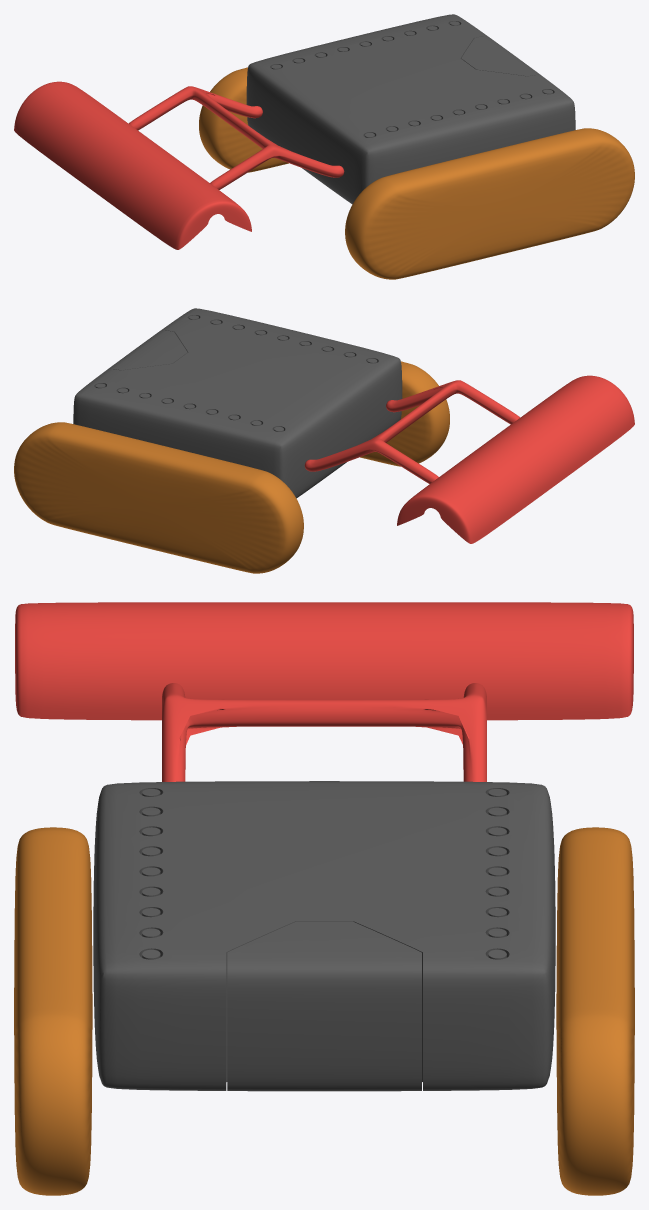
Rendered from Robot.glb.
3 views of the same model, one above another, from view 1: azimuth 30°, elevation 25°; view 2: azimuth 150°, elevation 25°; view 3: azimuth 270°, elevation 25° (orthographic). The views are drawn at different scales.
Visible parts, largest first — view 1: Robot.vehicle-vehicle, Robot.Shovel; view 2: Robot.vehicle-vehicle, Robot.Shovel; view 3: Robot.vehicle-vehicle, Robot.Shovel.
Part boxes in pixels (x1,y1,x2,y2): Robot.vehicle-vehicle: (199, 14, 634, 279); Robot.Shovel: (14, 81, 344, 249); Robot.vehicle-vehicle: (14, 308, 449, 573); Robot.Shovel: (304, 375, 634, 543); Robot.vehicle-vehicle: (14, 781, 634, 1195); Robot.Shovel: (15, 602, 633, 781).
Size of the model in its own units: 4.28 by 1.13 by 2.68.
